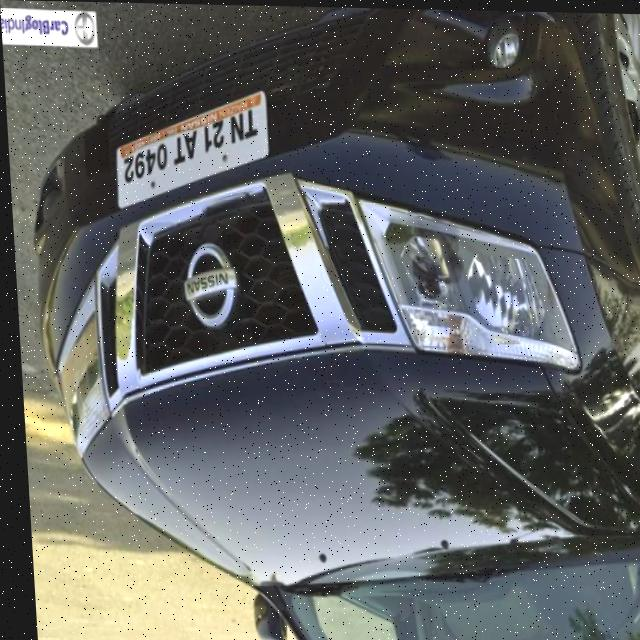plate: (108, 87, 273, 213)
